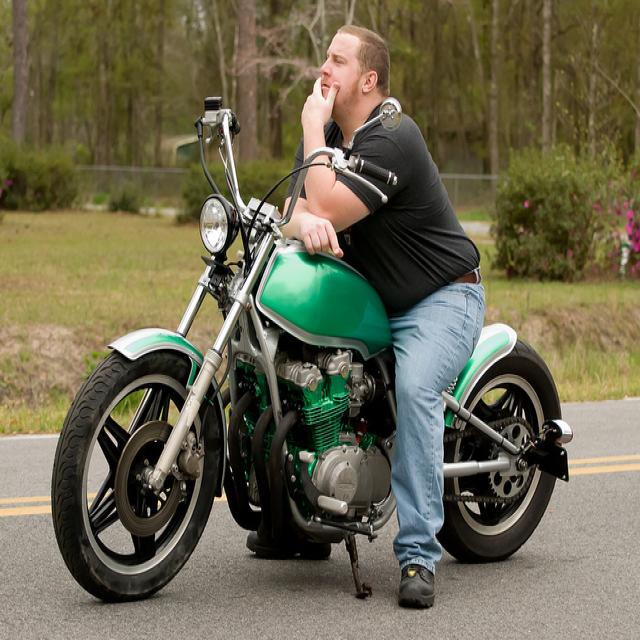motor: (49, 107, 563, 592)
